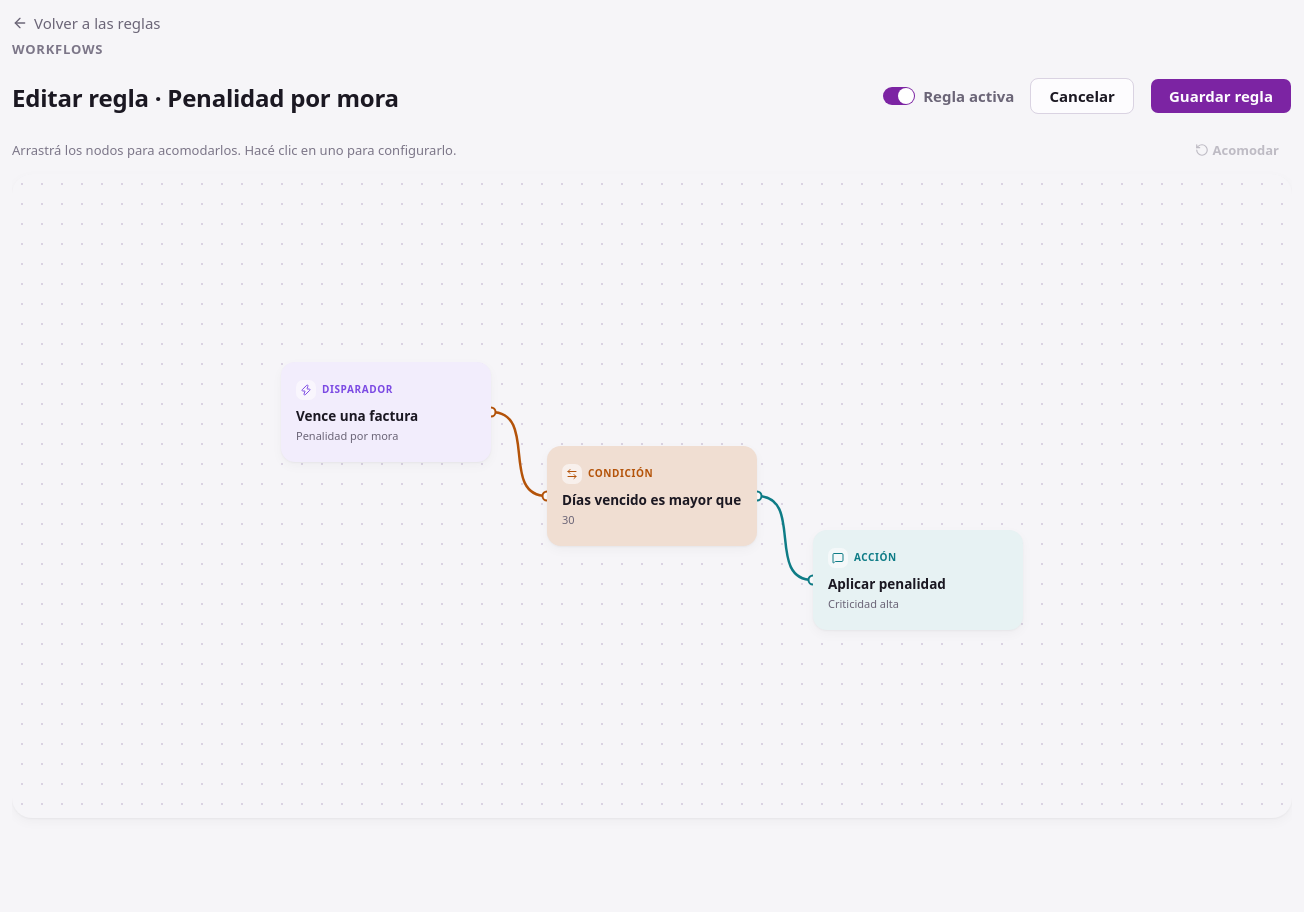
ReglaWorkflowEditorPage › muestra el error del backend al guardar sin salir del editor
Click the button "Guardar regla": (1221, 96) [1150,78,1292,114]
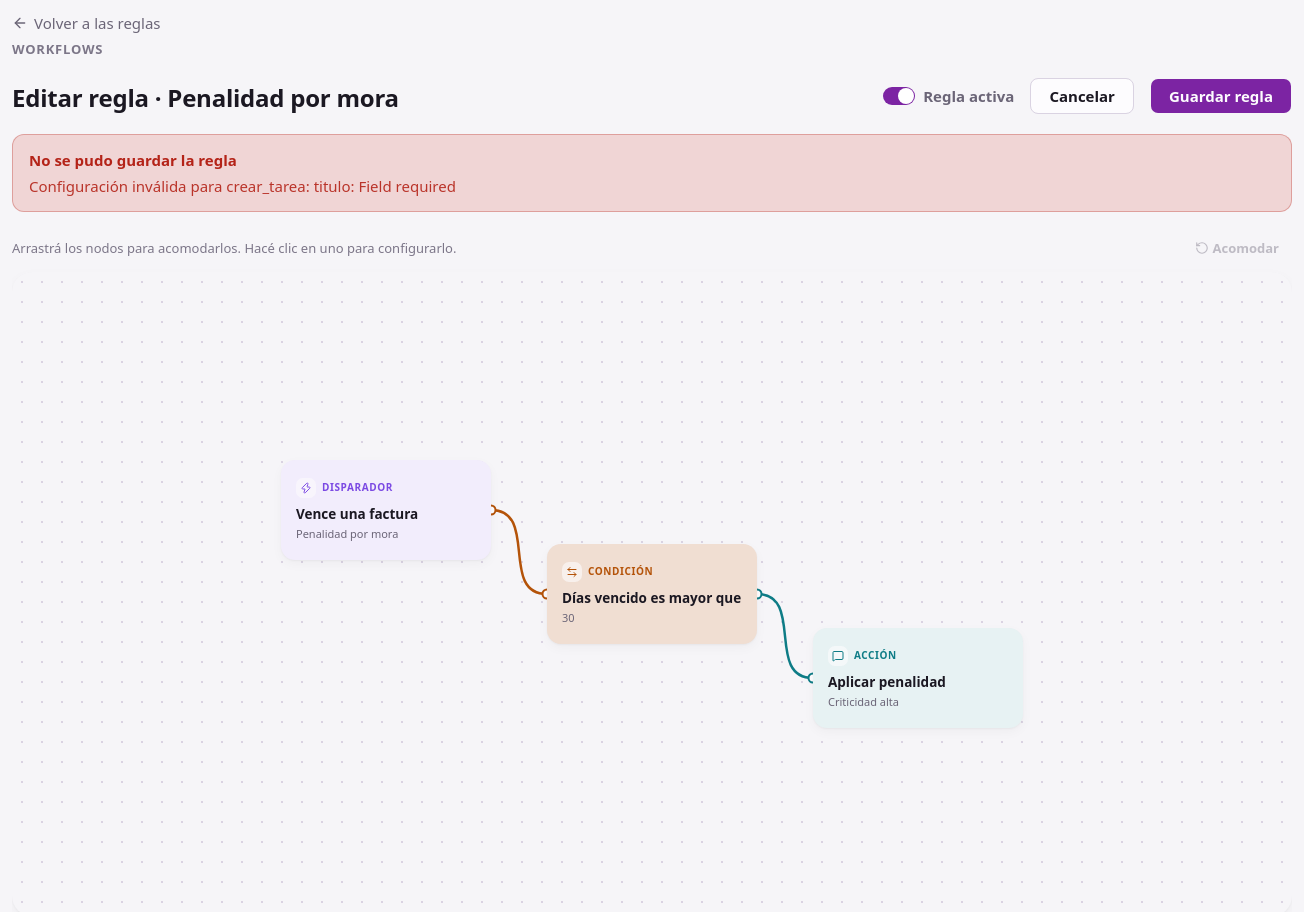
Expected: the text "Configuración inválida para crear_tarea" is shown, [29,176,456,196]
